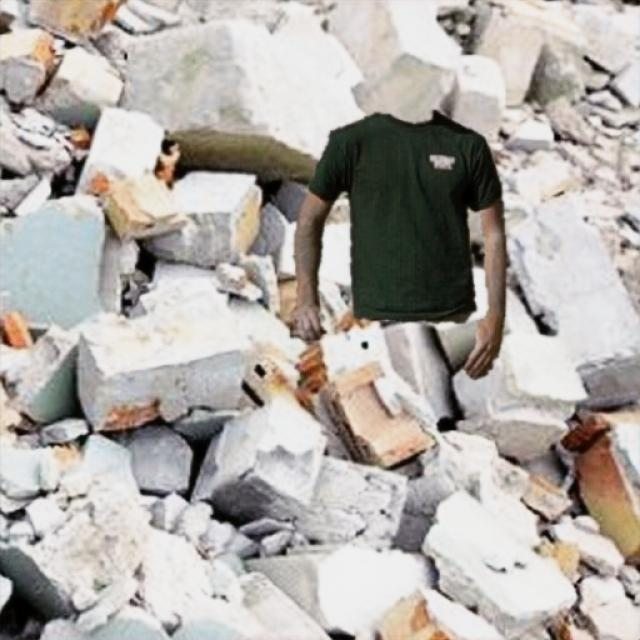Person in Rubble: (289, 110, 505, 379)
